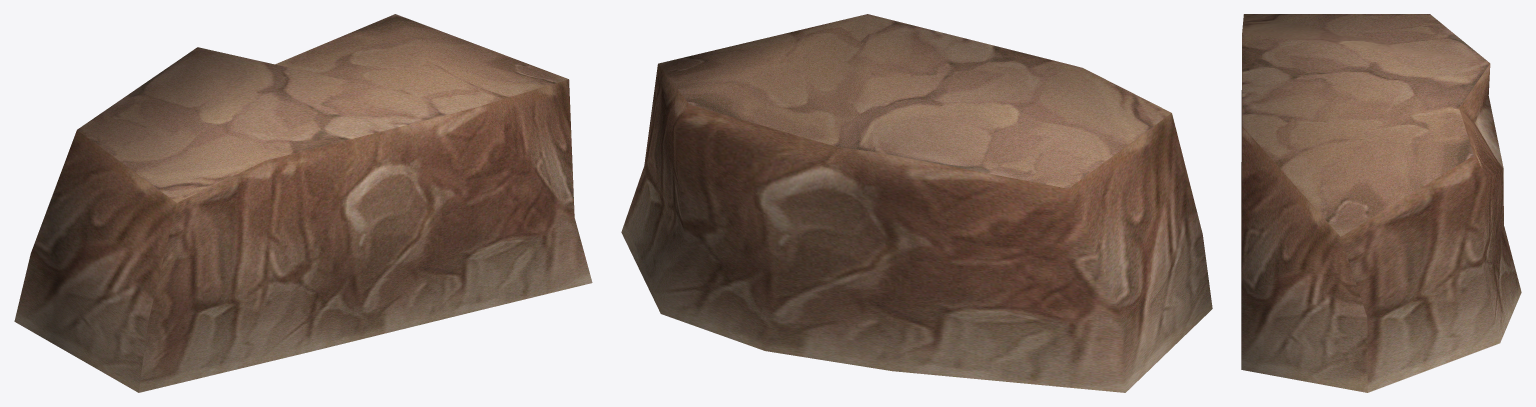
Rendered from archi_0075_01.FBX.
3 renders of one model, left to right at view 1: azimuth 30°, elevation 25°; view 2: azimuth 150°, elevation 25°; view 3: azimuth 270°, elevation 25°, orthographic. The views are drawn at different scales.
Visible parts, largest first — view 1: archi_0075_01; view 2: archi_0075_01; view 3: archi_0075_01.
Boxes of the visible parts, x1,y1,x2,y2 form: archi_0075_01: [14, 14, 592, 392]; archi_0075_01: [621, 14, 1212, 392]; archi_0075_01: [1241, 14, 1521, 392].
Bounding box in the file's own units: 65.41 × 24.24 × 32.55.
